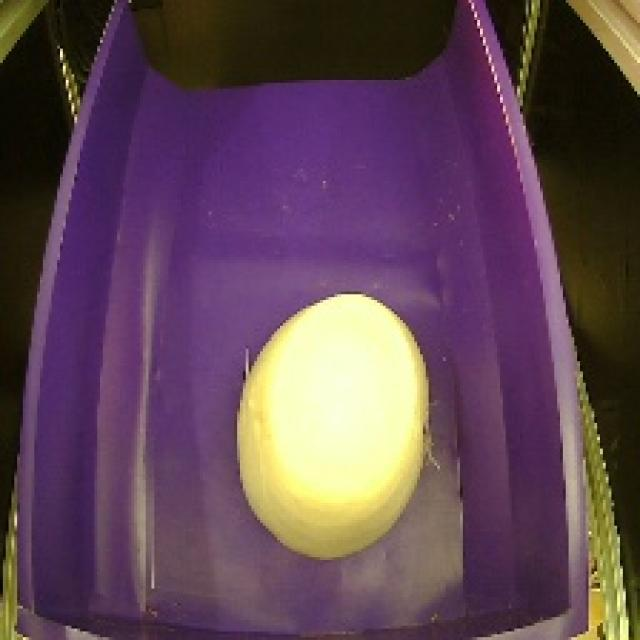white_radish: (229, 283, 445, 563)
